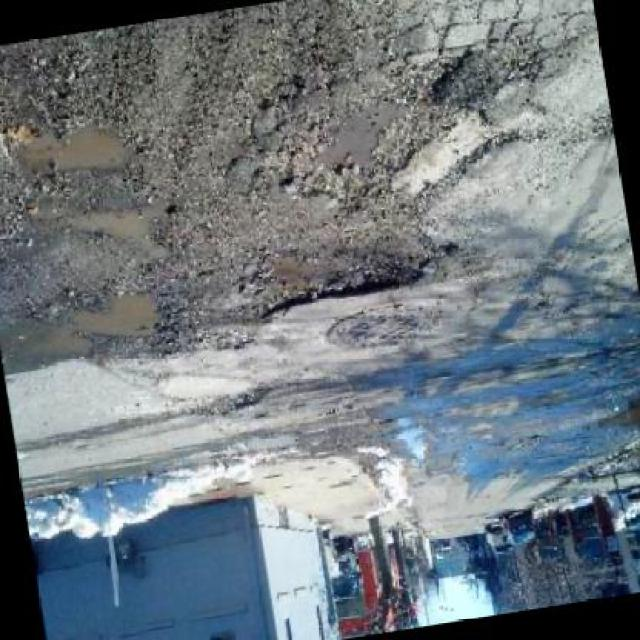pothole: (255, 59, 473, 230), (247, 224, 445, 330), (15, 281, 190, 377), (8, 115, 144, 199), (66, 199, 186, 283), (185, 384, 272, 421)
